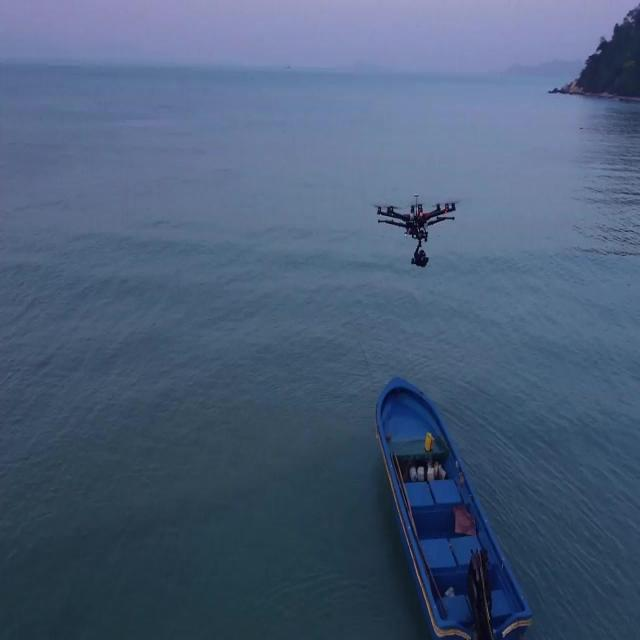UAV: (373, 194, 461, 268)
